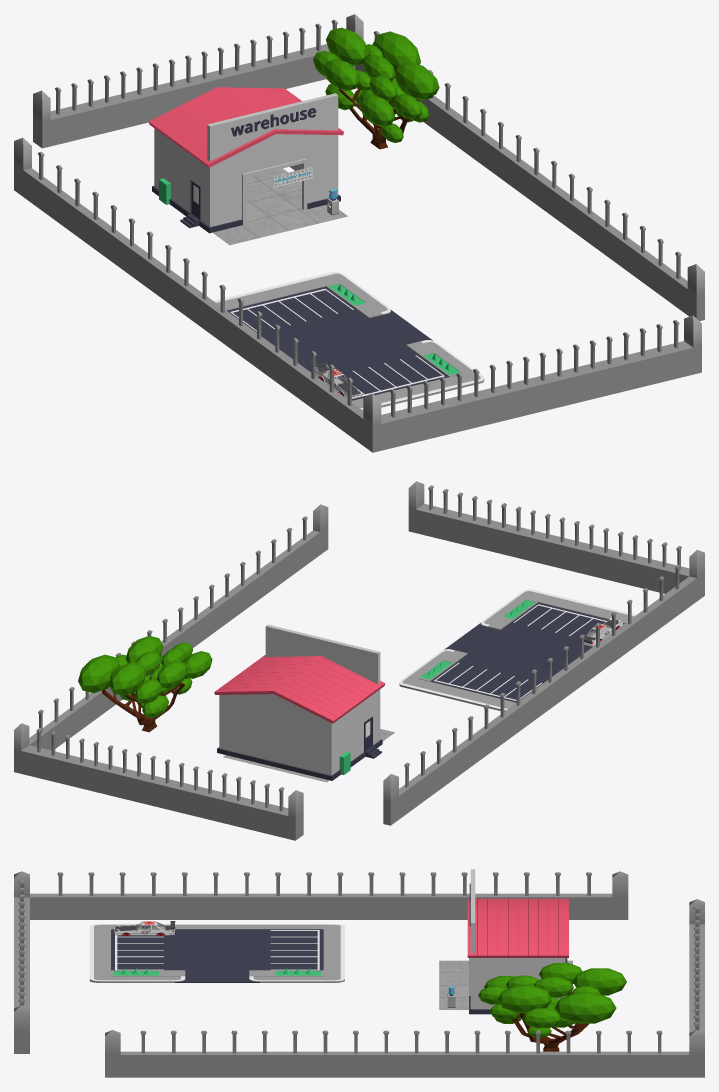
File: shop_2_1.glb
3 renders of one model, top to bottom at view 1: azimuth 30°, elevation 25°; view 2: azimuth 150°, elevation 25°; view 3: azimuth 270°, elevation 25°, orthographic. The views are drawn at different scales.
Parts seen in each view (by area): view 1: Fence (×2), Road, Main building, tree crown, Roof, Plane, Sign, Footpath, Lines, Concretes, trunk and branches; view 2: Fence (×2), Main building, Road, Roof, tree crown, Sign, Footpath, Lines, Bottom section, trunk and branches, Concretes; view 3: Fence (×2), Road, tree crown, Roof, Footpath, Lines, Main building, Plane, trunk and branches, Concretes, Car frame, Sign (+1 smaller).
Boxes of the visible parts, <box> form: Fence (×2): <box>14,14,704,452</box>; Road: <box>227,286,448,400</box>; Main building: <box>154,128,338,226</box>; tree crown: <box>313,27,439,142</box>; Roof: <box>149,87,343,167</box>; Plane: <box>212,168,347,244</box>; Sign: <box>207,93,338,161</box>; Footpath: <box>216,274,484,408</box>; Lines: <box>214,271,483,409</box>; Concretes: <box>325,282,462,376</box>; trunk and branches: <box>338,88,418,149</box>; Fence (×2): <box>14,481,704,840</box>; Main building: <box>219,689,380,775</box>; Road: <box>430,602,624,702</box>; Roof: <box>214,655,385,723</box>; tree crown: <box>78,635,212,718</box>; Sign: <box>265,624,380,684</box>; Footpath: <box>399,591,633,711</box>; Lines: <box>399,589,635,710</box>; Bottom section: <box>217,739,382,780</box>; trunk and branches: <box>102,677,187,732</box>; Concretes: <box>418,599,538,681</box>; Fence (×2): <box>14,871,704,1077</box>; Road: <box>111,929,323,982</box>; tree crown: <box>478,963,626,1037</box>; Roof: <box>467,898,568,957</box>; Footpath: <box>89,925,344,982</box>; Lines: <box>89,924,344,981</box>; Main building: <box>469,958,565,1009</box>; Plane: <box>439,960,572,1009</box>; trunk and branches: <box>512,992,588,1051</box>; Concretes: <box>111,970,323,976</box>; Car frame: <box>115,921,174,935</box>; Sign: <box>470,869,475,952</box>.
Bounding box in the file's own units: 6.34 × 1.66 × 11.49.
48 materials, 3 textured.
